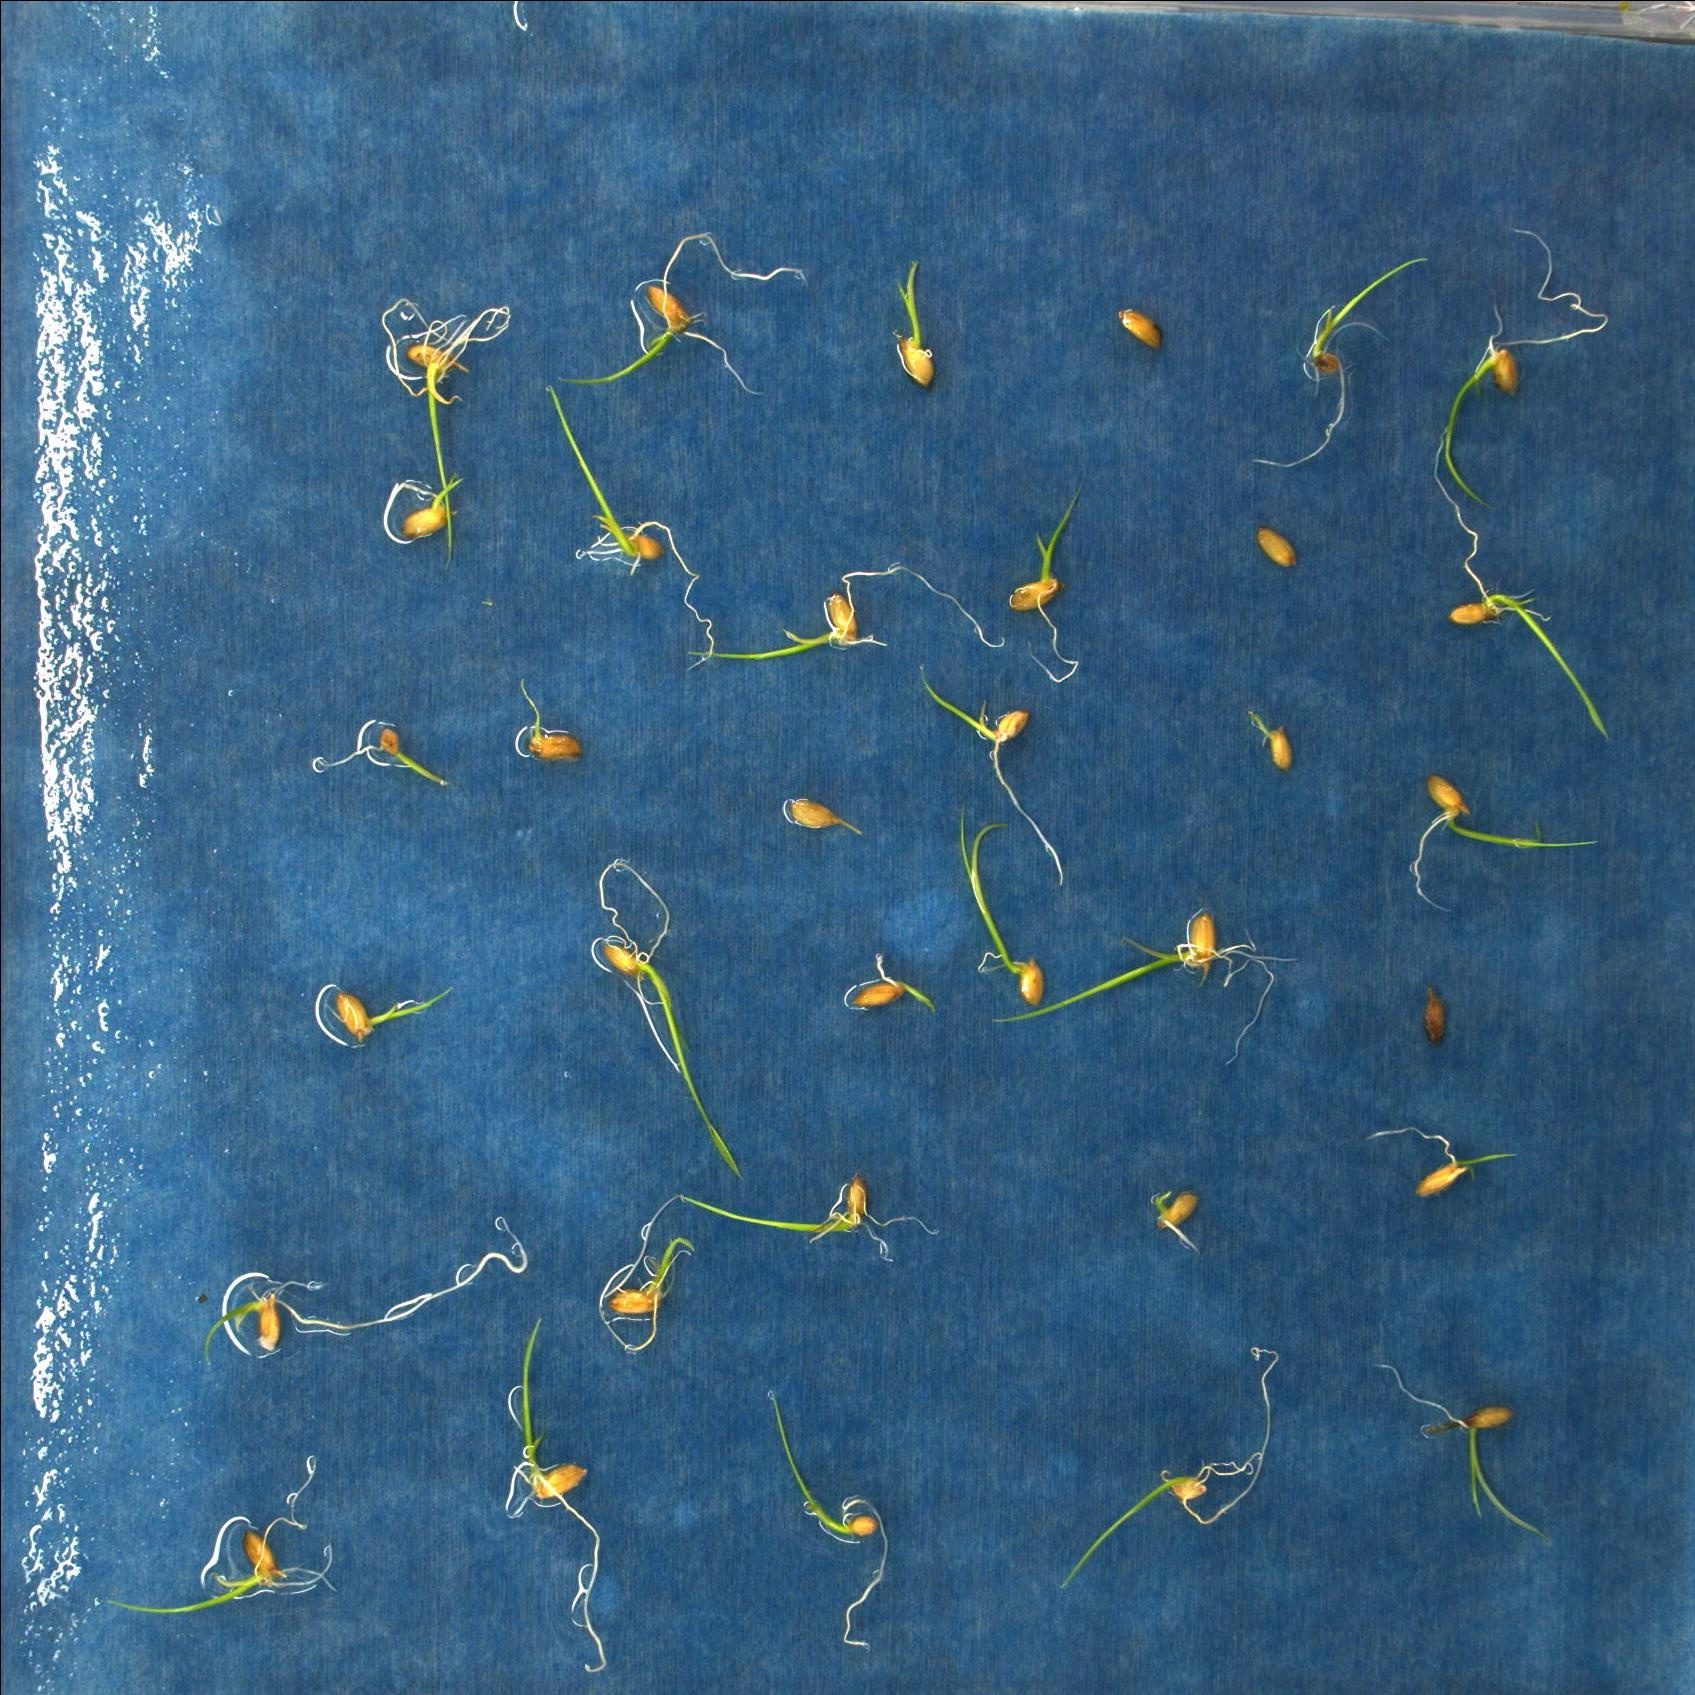not sprout: (785, 789, 866, 843), (1250, 518, 1302, 577), (1116, 304, 1161, 355), (1416, 986, 1450, 1051)
sprout: (1426, 422, 1613, 747), (200, 1208, 531, 1381), (1059, 1341, 1285, 1588), (540, 377, 719, 677), (990, 903, 1301, 1069), (1440, 227, 1613, 517), (594, 854, 745, 1177), (549, 227, 810, 405), (900, 653, 1082, 893), (371, 289, 518, 576), (495, 1310, 608, 1676), (112, 1444, 340, 1622), (1250, 255, 1434, 473), (759, 1378, 893, 1658), (689, 557, 1015, 671), (1375, 1354, 1549, 1546), (1409, 767, 1600, 914), (671, 1166, 941, 1270), (955, 798, 1048, 1012), (1003, 473, 1083, 695), (599, 1194, 697, 1358), (1364, 1121, 1520, 1200), (310, 720, 453, 793), (883, 250, 942, 404), (326, 981, 453, 1043), (373, 469, 464, 549), (512, 674, 581, 771), (852, 945, 938, 1021), (1147, 1180, 1200, 1257), (1245, 706, 1298, 771)
